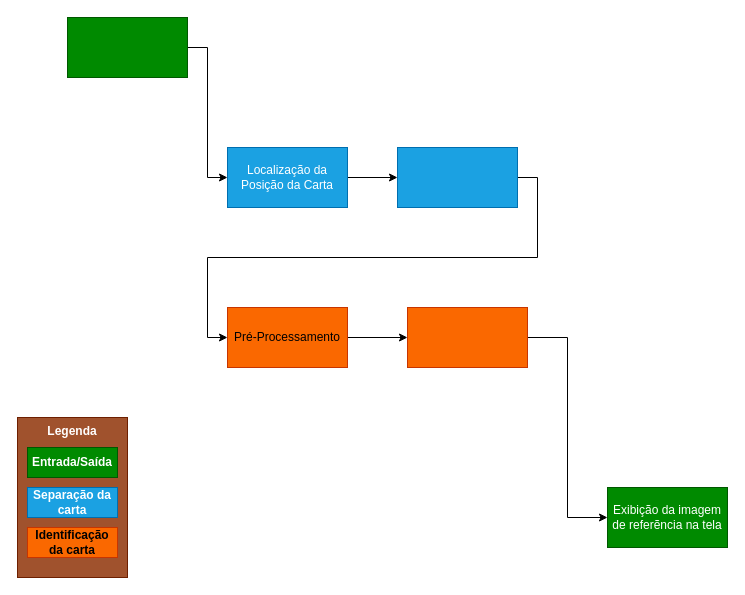
Image size: 745x595. Some labels were removed from this diagram. Here are the shapes that lost their labels. From the top down, the centre of each, then its label:
(127,47): Leitura da câmera
(457,177): Remoção de Fundo
(467,337): Comparação com imagens de referência
